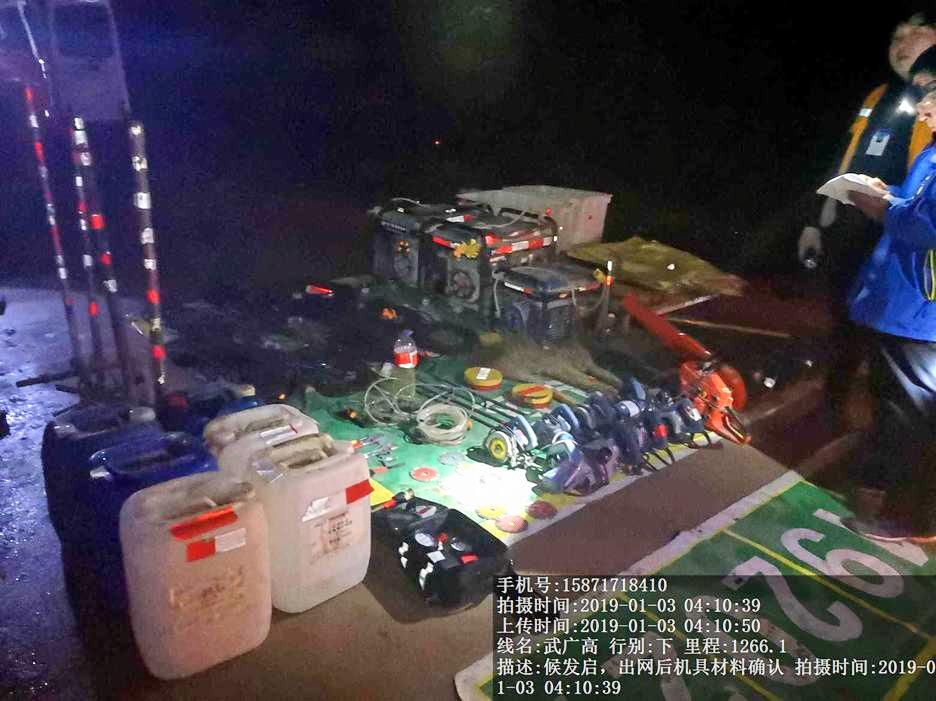DJ: (445, 214, 554, 309), (494, 259, 615, 332), (369, 186, 462, 280)
GFJ: (624, 299, 744, 422)
GJB: (379, 493, 509, 614)
JC: (463, 362, 508, 392), (508, 377, 549, 407)
SLT: (119, 474, 274, 685), (244, 441, 382, 609), (40, 396, 116, 532)
T: (486, 182, 611, 237)
